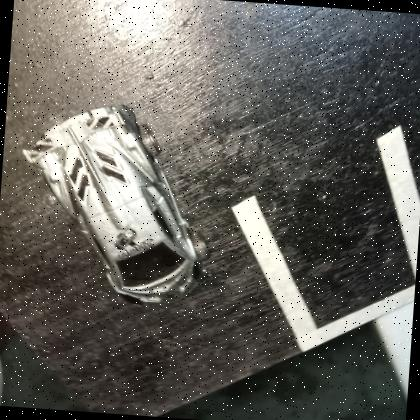Car: (23, 103, 199, 303)
